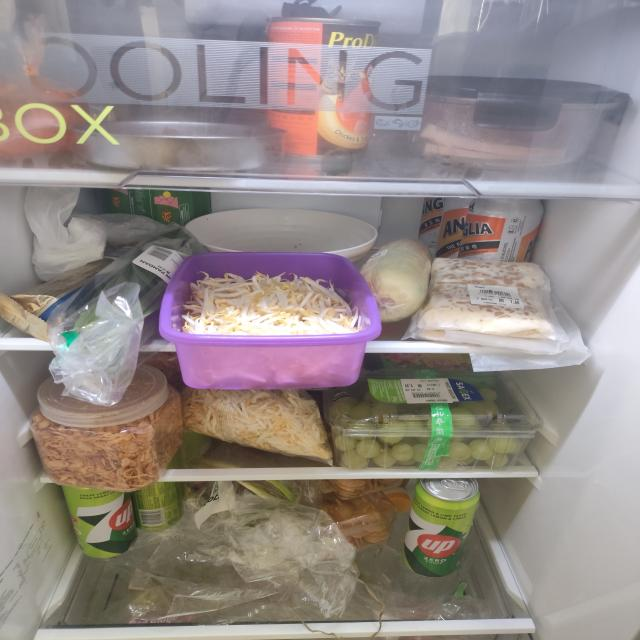bean_sprouts: (181, 270, 366, 336), (181, 389, 333, 460)
corn: (358, 237, 433, 324)
grape: (331, 386, 525, 469)
tempeh: (412, 258, 558, 353)
